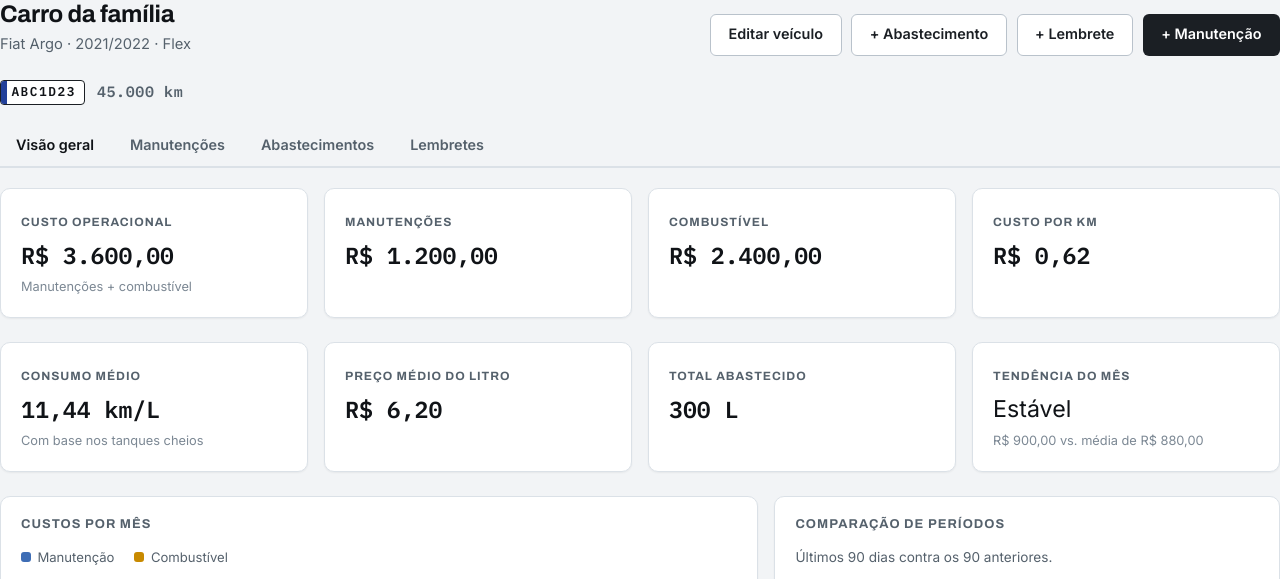
Test: VehicleDetailPage › loads fuel entries only once its tab is opened
Expected: the heading "Carro da família" is shown, [0,0,191,29]
Step 1. Click the tab "Abastecimentos" → x=318, y=146, box [245,125,390,168]
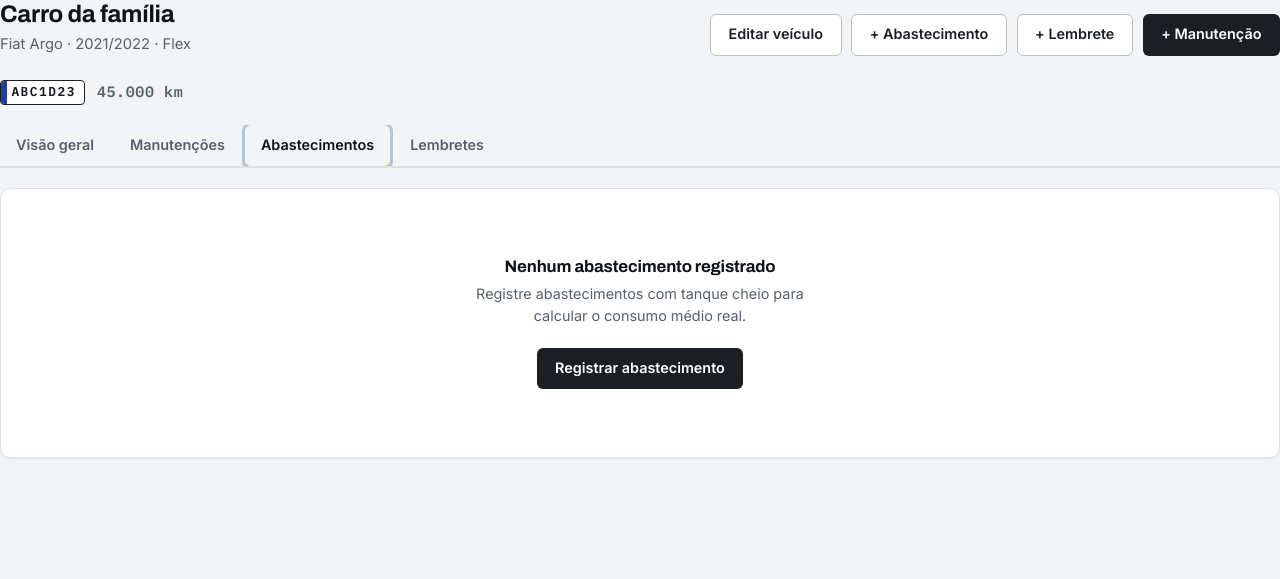
Expected: the heading "Nenhum abastecimento registrado" is shown, [505,257,775,276]
